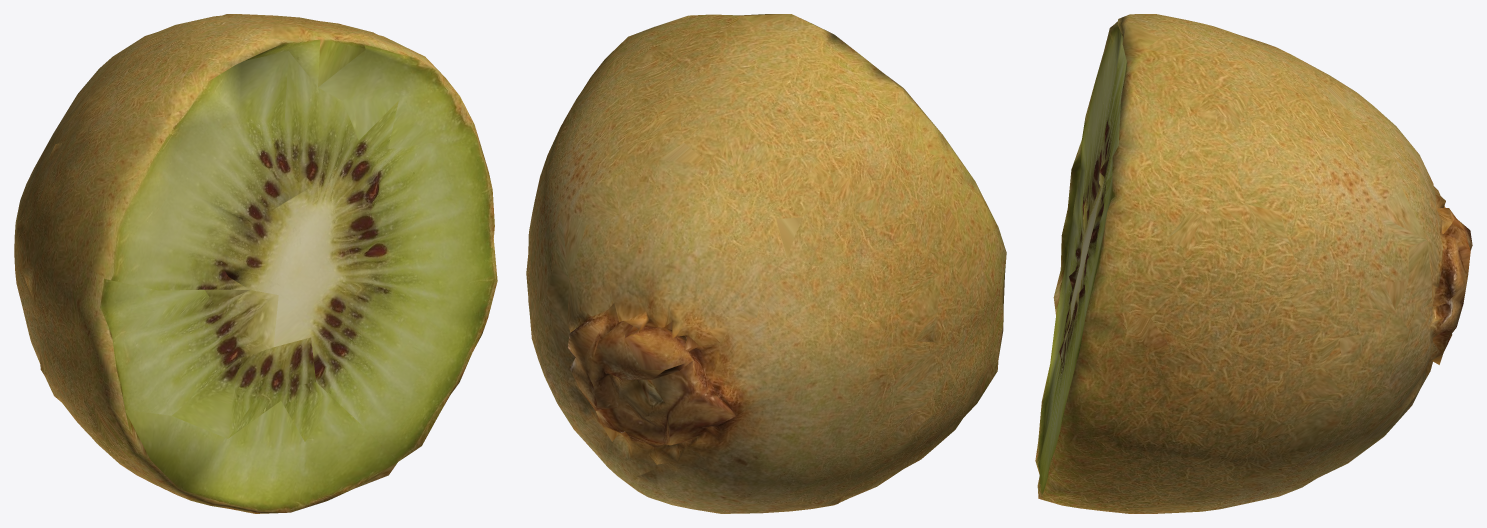
The model's file is kiwi-transformed.glb.
The picture shows the model from 3 angles, left to right: view 1: azimuth 30°, elevation 25°; view 2: azimuth 150°, elevation 25°; view 3: azimuth 270°, elevation 25°; orthographic projection. The views are drawn at different scales.
Parts seen in each view (by area): view 1: kiwi; view 2: kiwi; view 3: kiwi.
Boxes of the visible parts, x1,y1,x2,y2 form: kiwi: (14,14,497,513); kiwi: (526,14,1006,513); kiwi: (1035,14,1472,513).
Bounding box in the file's own units: 3.24 × 3.46 × 2.93.
1 material, 1 textured.
